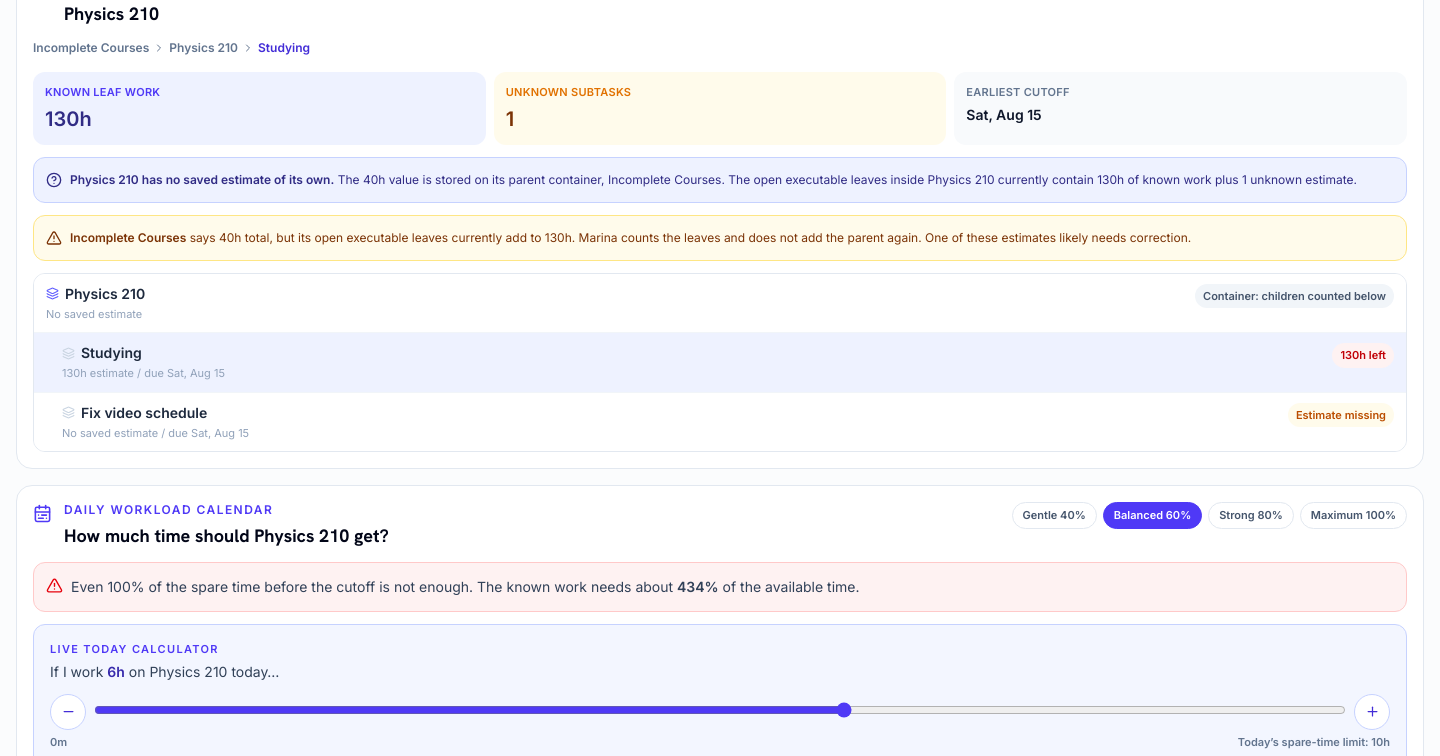
Scenario: HierarchyWorkloadPanel › updates the daily plan when maximum effort is selected
What coordinates should you click on to do the following:
click the button "Maximum 100%"
I would click on:
 (1353, 515)
Its box is [1300,502,1407,528].
(page scrolled)
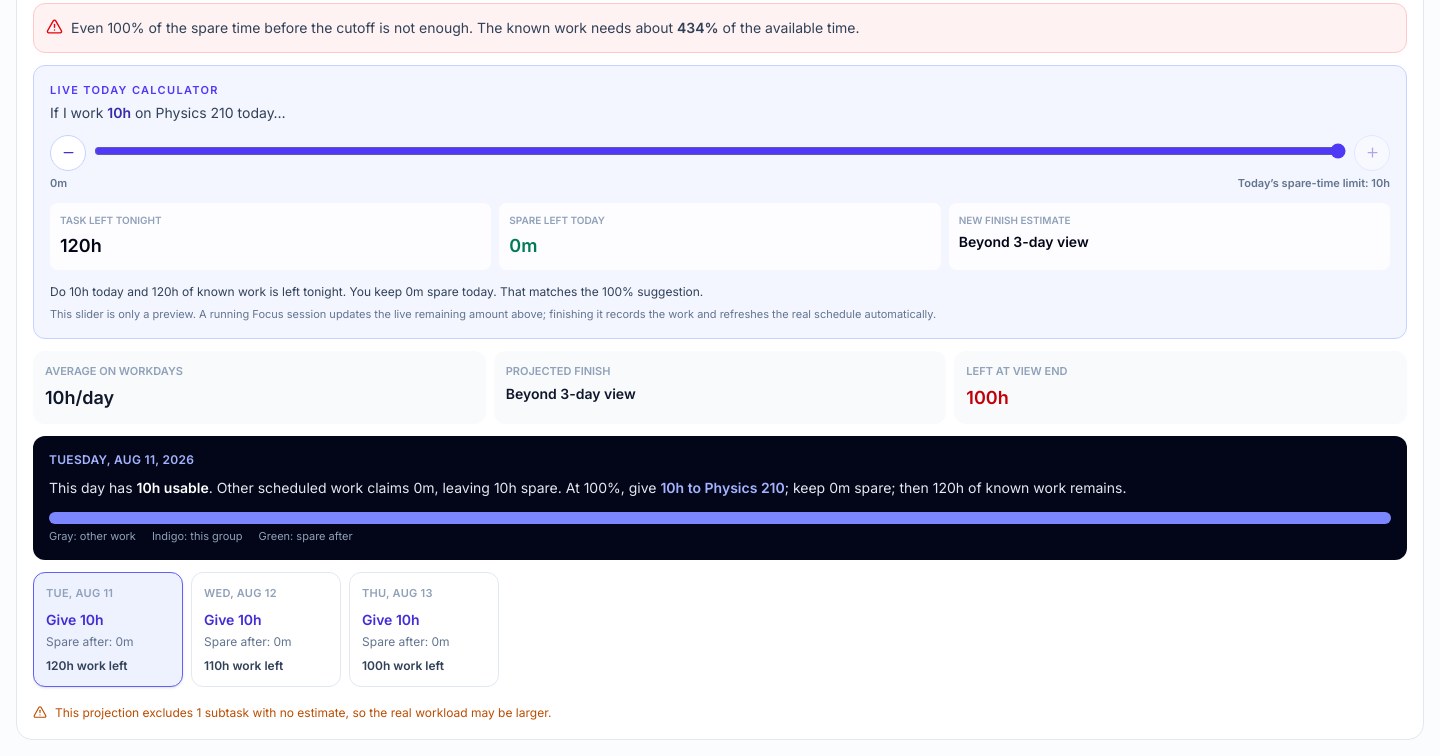
Check: the element with test id "daily-explanation" shows "give 10h to Physics 210", box [49,478,1126,496]
Check: the element with test id "daily-explanation" shows "then 120h of known work remains", box [49,478,1126,496]
